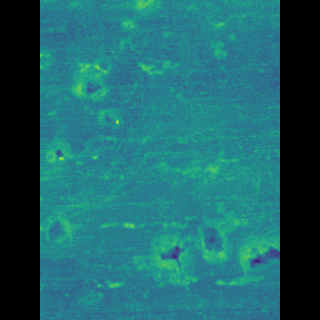Loch: (124, 205, 251, 300), (94, 54, 128, 102), (74, 215, 94, 245), (112, 106, 136, 130), (74, 140, 91, 169), (69, 49, 82, 71)
